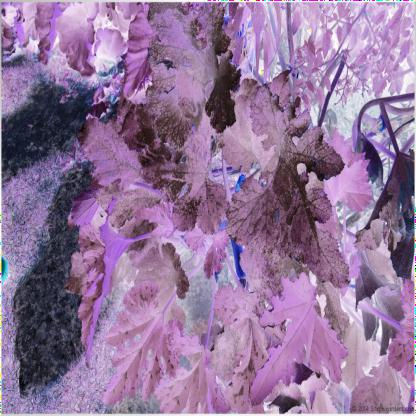Squash Powdery mildew leaf: (243, 77, 349, 295), (144, 3, 245, 142)
